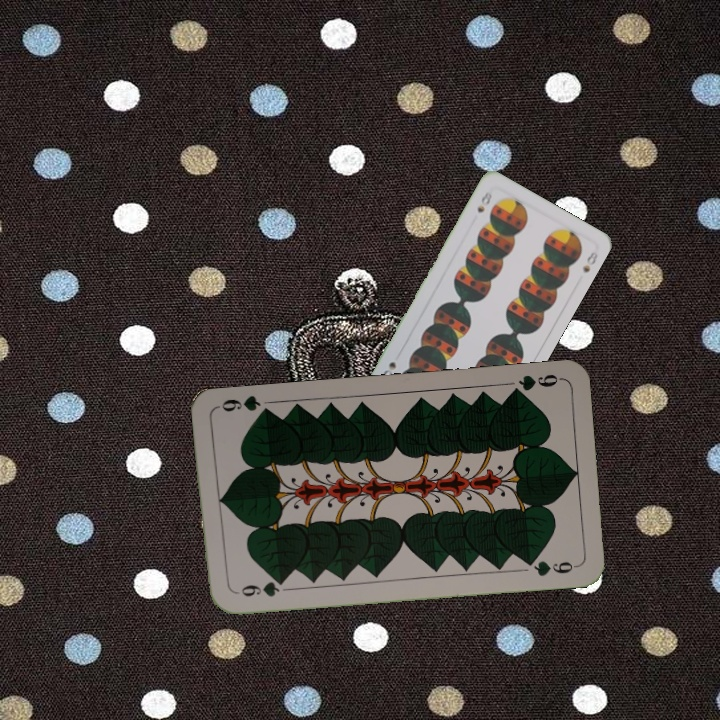G9: (505, 370, 563, 398), (237, 576, 289, 599)
S8: (473, 187, 495, 215)
